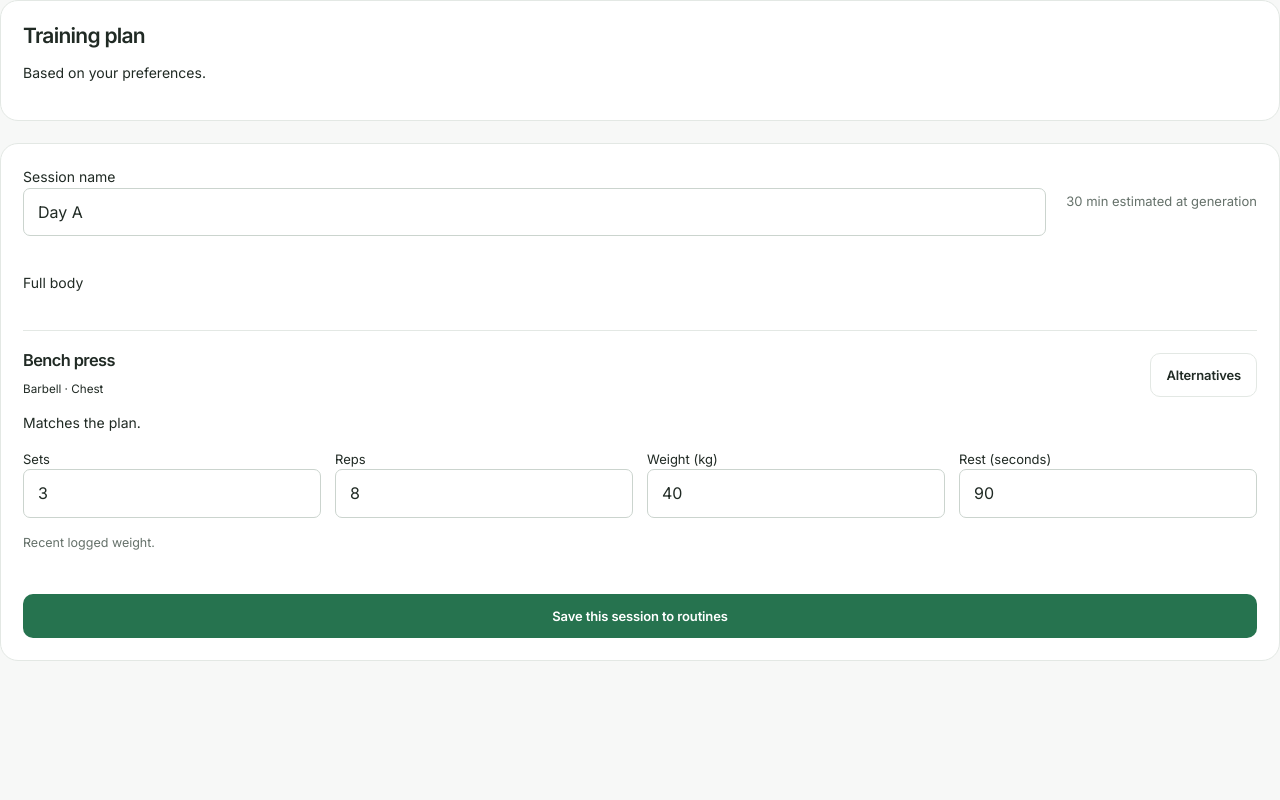
Test case: edits generated targets and only saves when the user accepts
Replace the text in the number field labelled "Reps" with "12" at [484, 494], box [335,469,633,518]
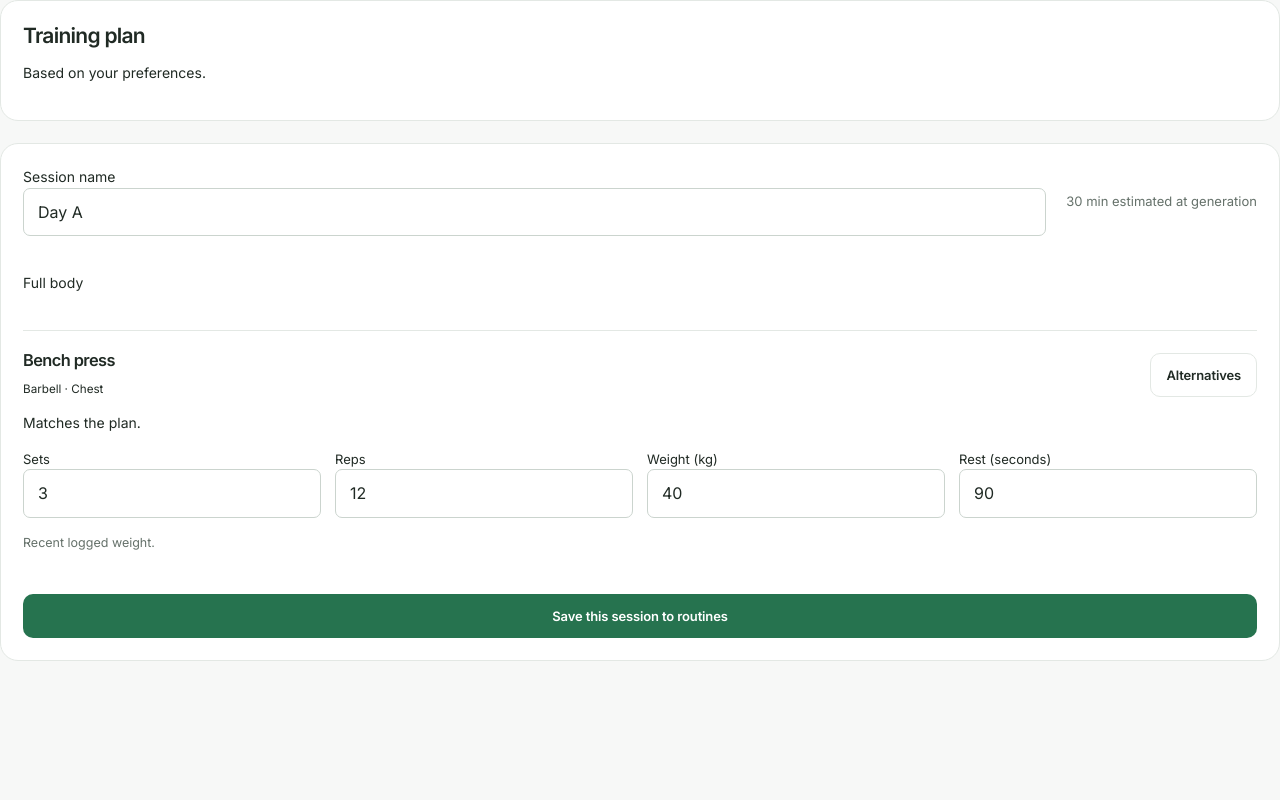
Click the button "Save this session to routines" at [640, 616], box [23,594,1257,638]
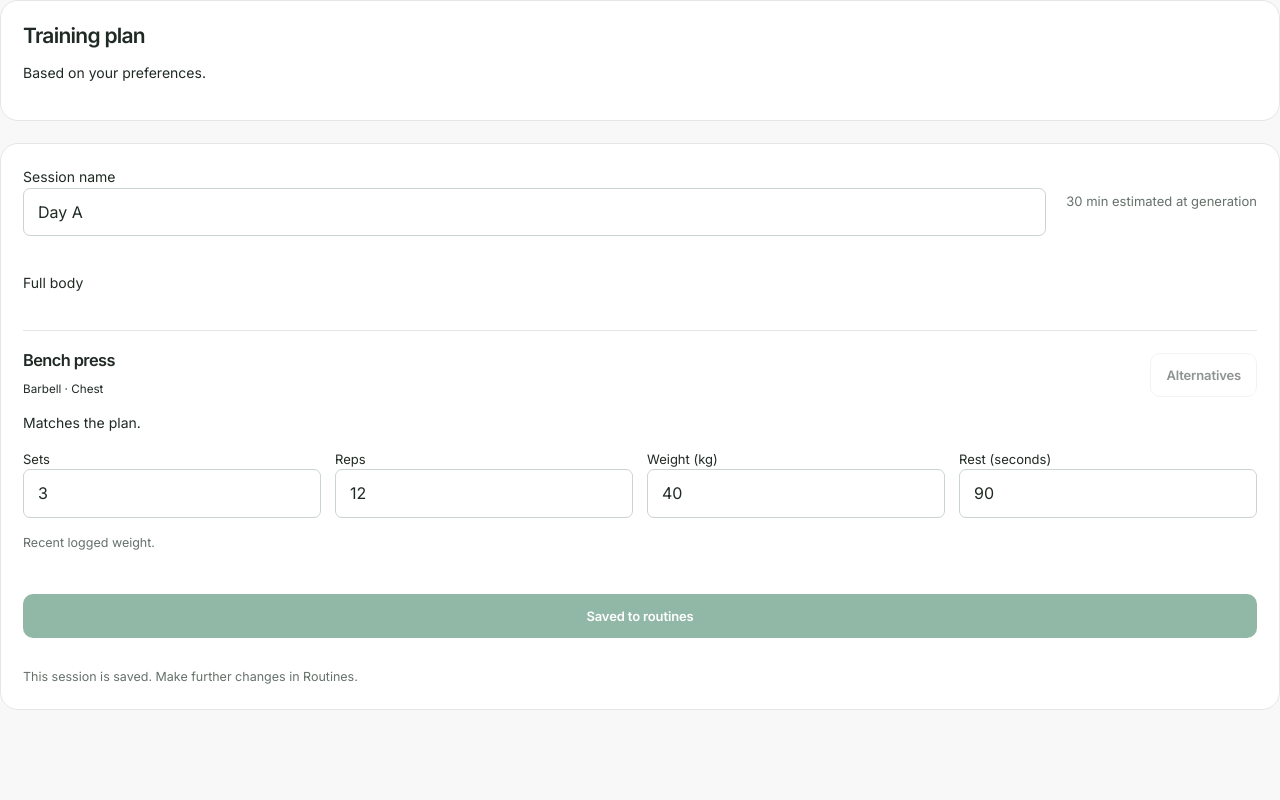
Expected: the button "Saved to routines" is shown, [23,594,1257,638]
